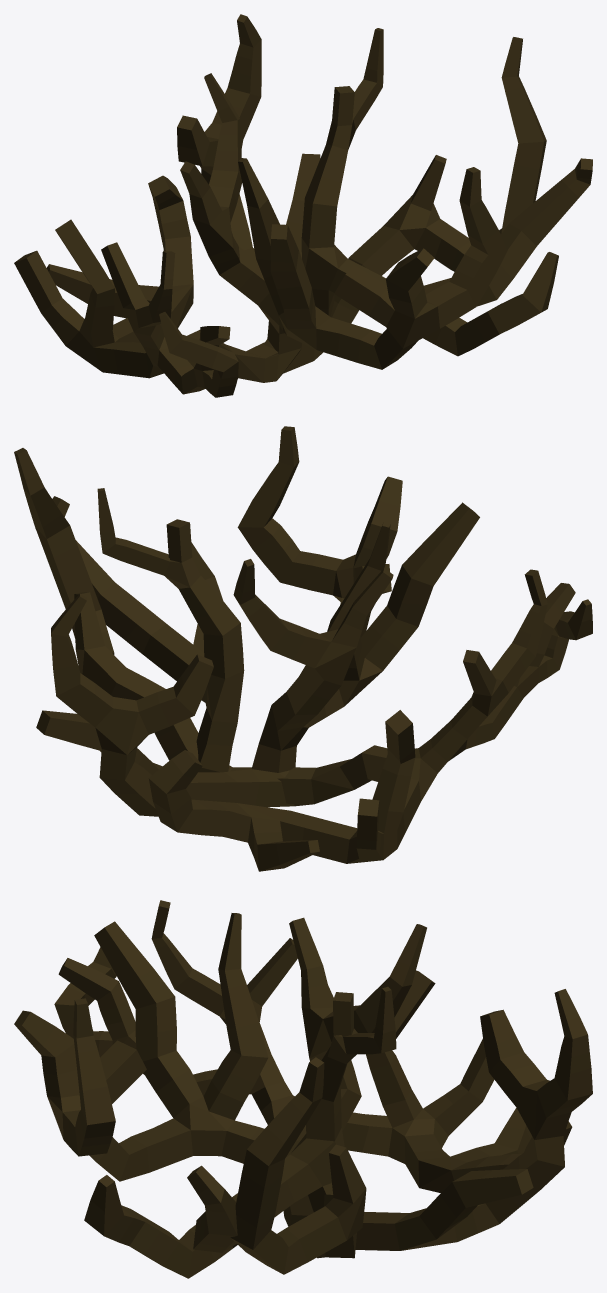
The model's file is Dead b.fbx.
The picture shows the model from 3 angles, top to bottom: view 1: azimuth 30°, elevation 25°; view 2: azimuth 150°, elevation 25°; view 3: azimuth 270°, elevation 25°; orthographic projection. The views are drawn at different scales.
Visible parts, largest first — view 1: Cube.002; view 2: Cube.002; view 3: Cube.002.
Boxes of the visible parts, bbox=[...] form: Cube.002: bbox=[14, 14, 592, 397]; Cube.002: bbox=[14, 426, 592, 871]; Cube.002: bbox=[14, 900, 592, 1278].
Bounding box in the file's own units: 167 × 95.62 × 156.
